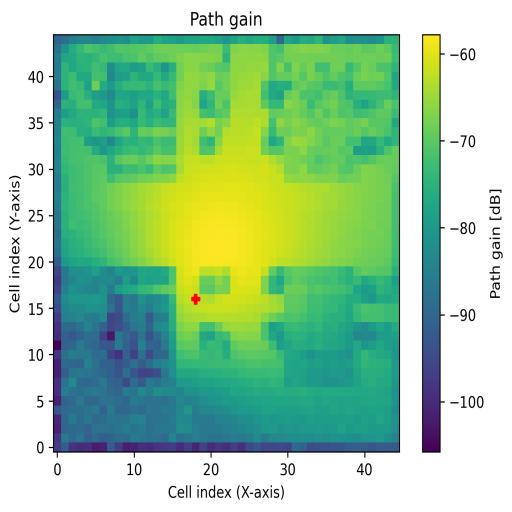Concrete: (284, 61, 354, 183)
Glass: (108, 63, 177, 182)
Metal: (284, 266, 354, 387)
Wood: (100, 266, 176, 387)
